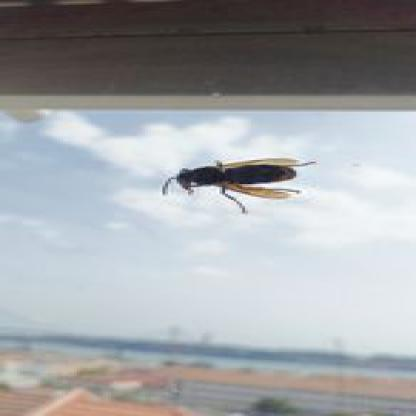Asian Hornet: (152, 154, 315, 214)
